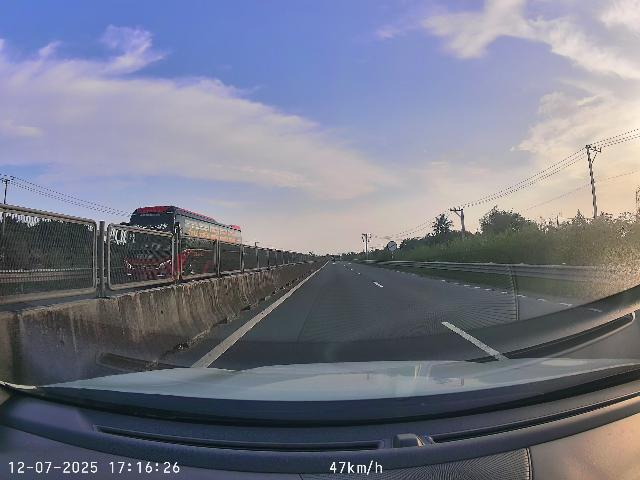135-het-tat-ca-cac-lenh-cam: (387, 241, 398, 252)
